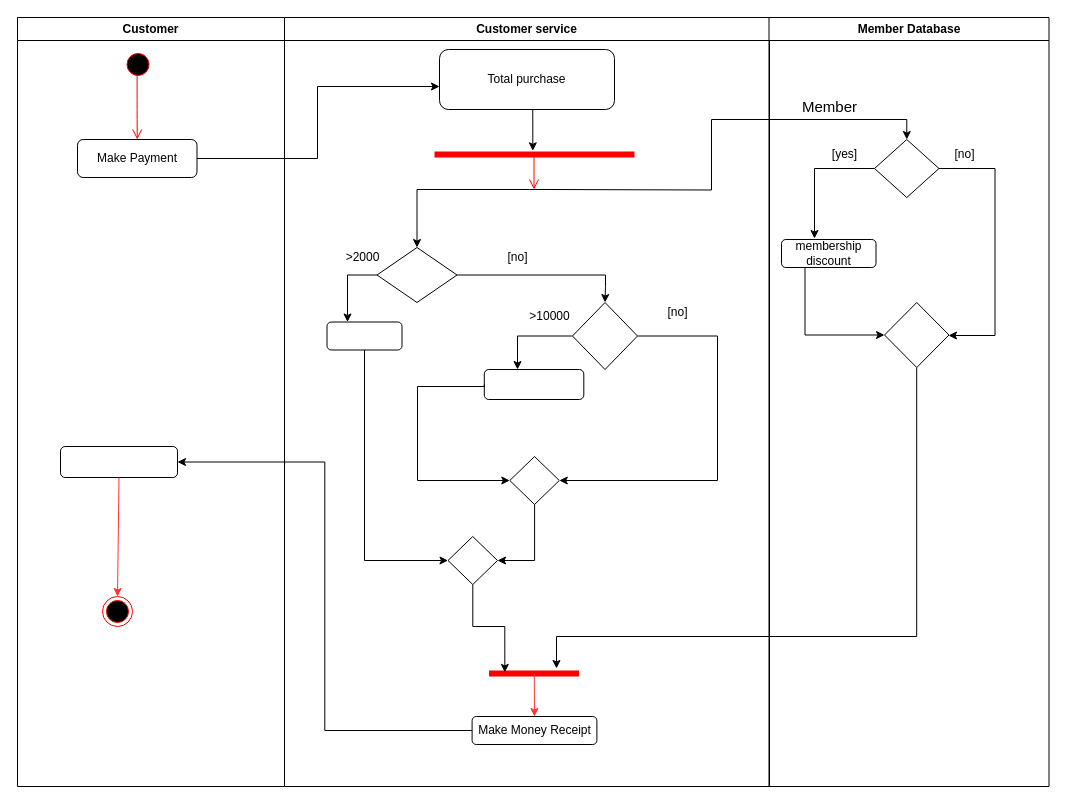
Image size: 1067x804. Some labels were removed from this diagram. The box of each missing label's shape, as (x1, y1, x2, y2) in pixels:
5% discount: (326, 321, 402, 350)
Money Receipt: (60, 446, 178, 478)
New Membership: (483, 368, 584, 400)
